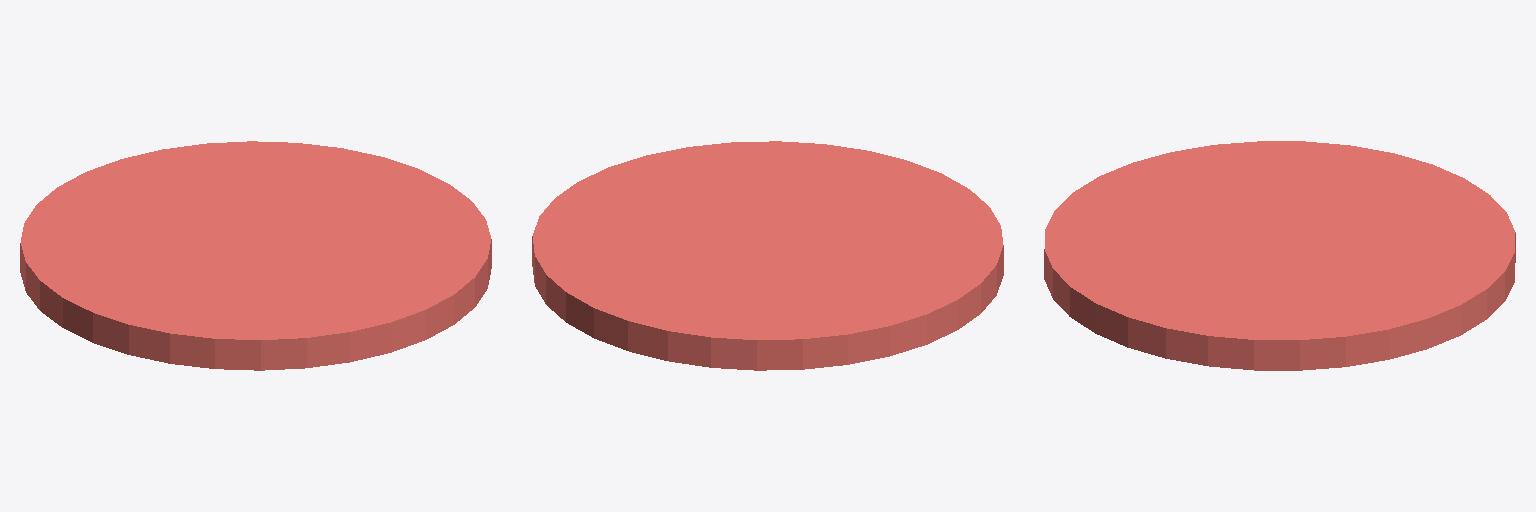
robot.urdf — Interference:
<?xml version="1.0"?>
<robot name="Interference">
  <link name="baseLink">
    <inertial>
      <origin xyz="0.0 0.0 0.0" rpy="0.0 0.0 0.0"/>
      <inertia ixx="0.0" ixy="0.0" ixz="0.0" iyy="0.0" iyz="0.0" izz="0.0"/>
      <mass value="0"/>
    </inertial>
    <visual>
      <origin xyz="0.0 0.0 0.0" rpy="0.0 0.0 -1.485592559411662"/>
      <geometry>
        <cylinder radius="0.07033126655085338" length="0.01"/>
      </geometry>
      <material name="color">
        <color rgba="0.9823561001635122 0.5210281115472136 0.48808031014163045 1.0"/>
      </material>
    </visual>
  </link>
</robot>

--- Facts derived from the render (not from the file) ---
Views: 3 orthographic renders of the robot side by side, from view 1: azimuth 30°, elevation 25°; view 2: azimuth 150°, elevation 25°; view 3: azimuth 270°, elevation 25°.
Robot: Interference — 1 links, 0 joints (none); root link baseLink; default pose: all joints at 0.
Visible links, largest first — view 1: baseLink; view 2: baseLink; view 3: baseLink.
Boxes of the visible links, x1,y1,x2,y2 form: baseLink: (20,141,491,370); baseLink: (532,141,1003,370); baseLink: (1044,141,1515,370).
Size in the robot's own frame: 0.1402 by 0.1402 by 0.01 metres.
Geometry: primitives only (box / cylinder / sphere), no mesh files.